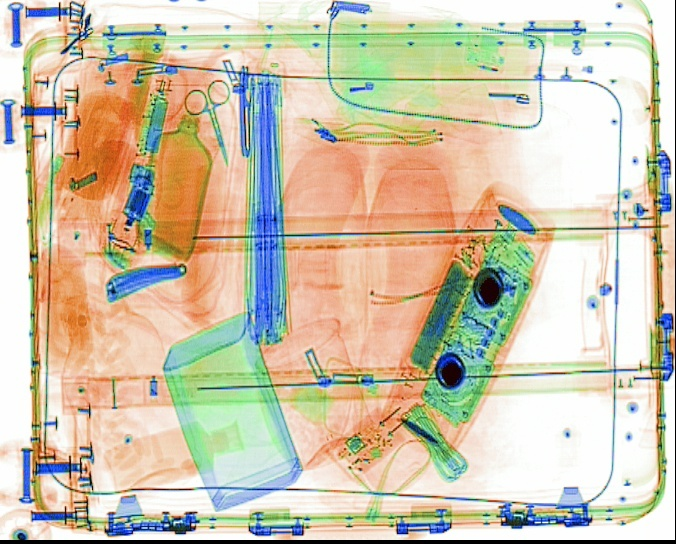scissors: (181, 77, 232, 163)
